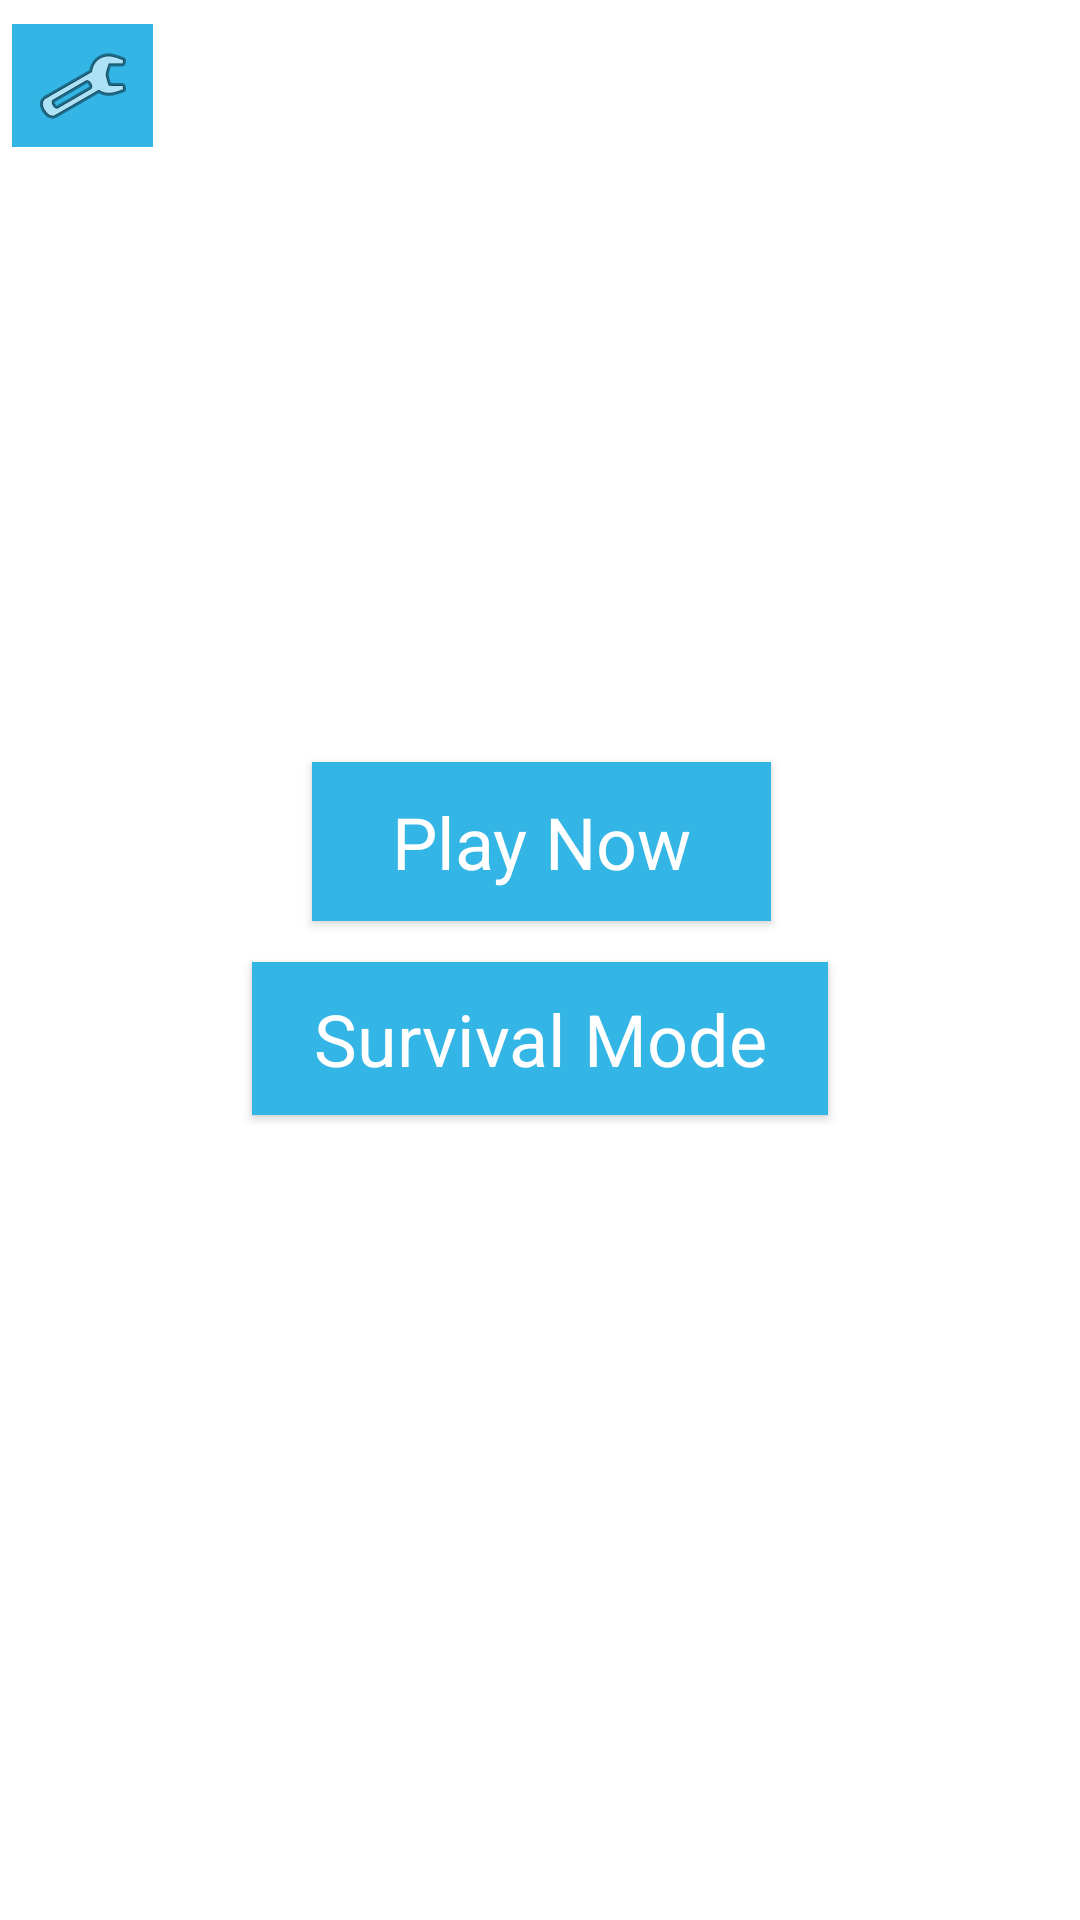

Icon bounding boxes for this 1080*1920 phone screenshot, format (x1, y1, x2, y2):
manage: (12, 24, 153, 147)
